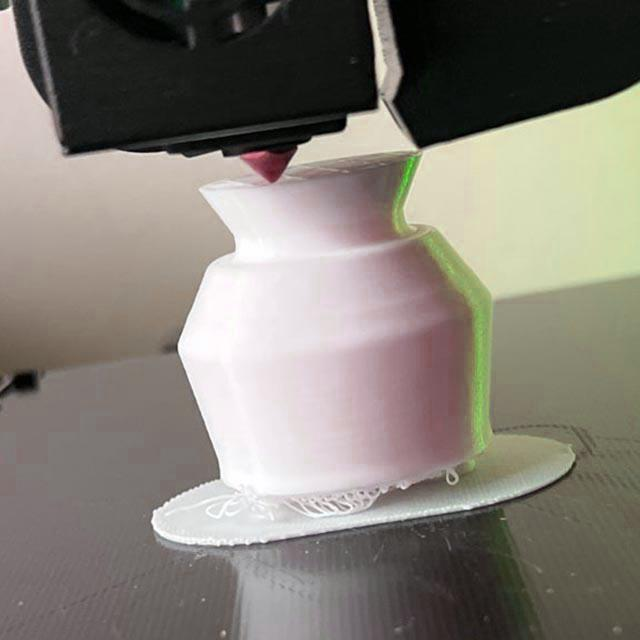spaghetti: (163, 478, 396, 524)
